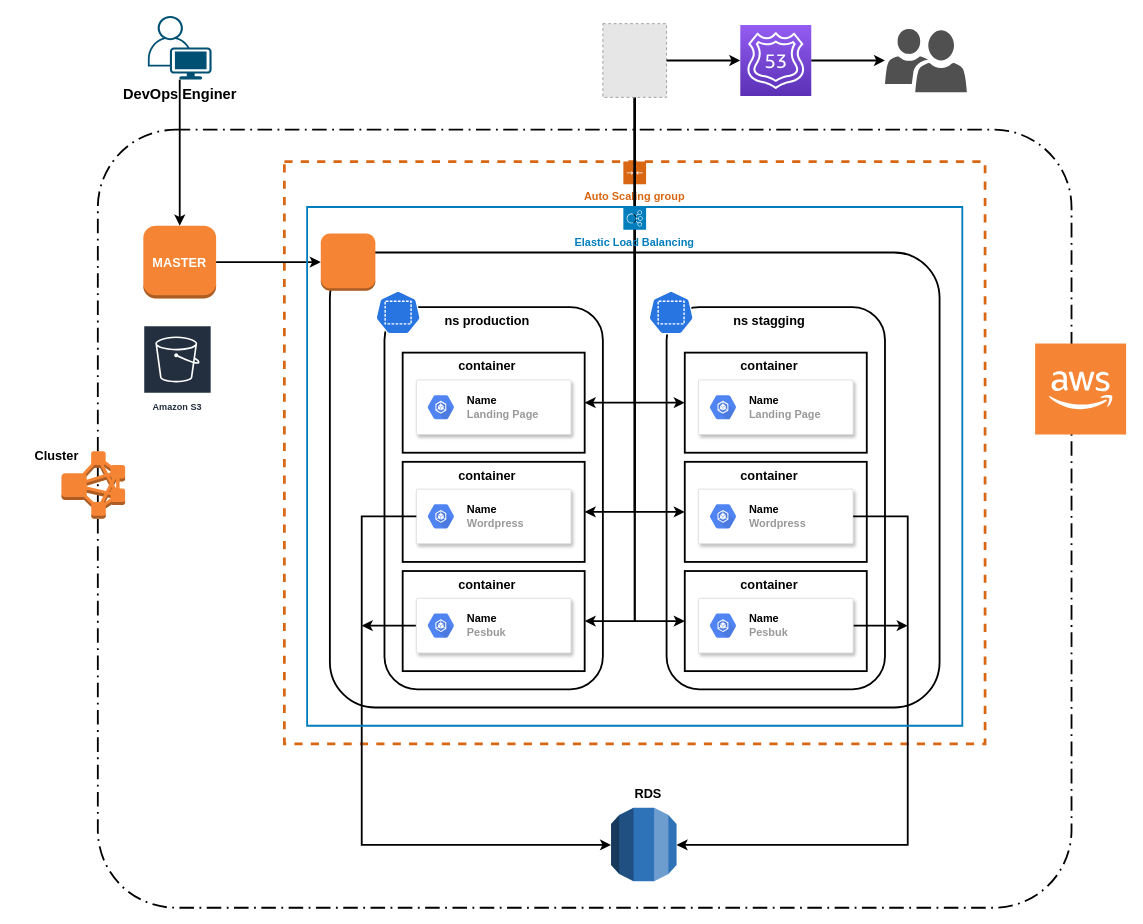
Image size: 1143x924. Some labels were removed from this diagram. Grey dashed boxes stand in for pictures. Each missing label, with the centre of its shape:
"NODE" belongs at (x=347, y=262).
"User" belongs at (x=925, y=60).
